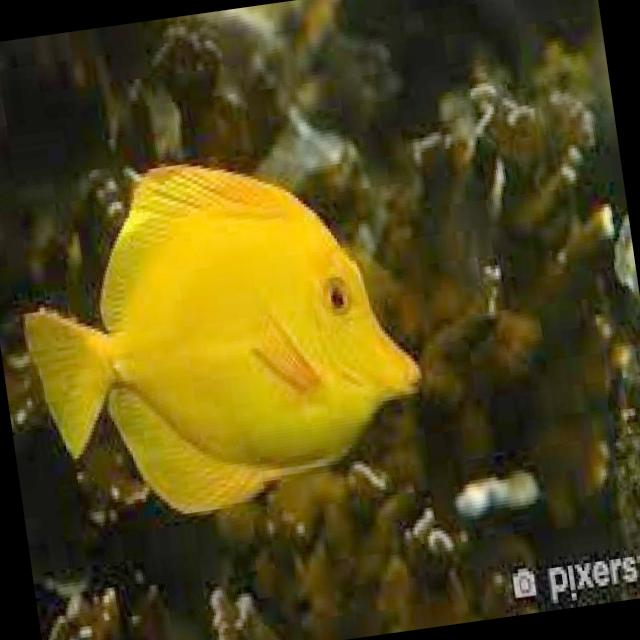TangFish: (0, 131, 435, 538)
